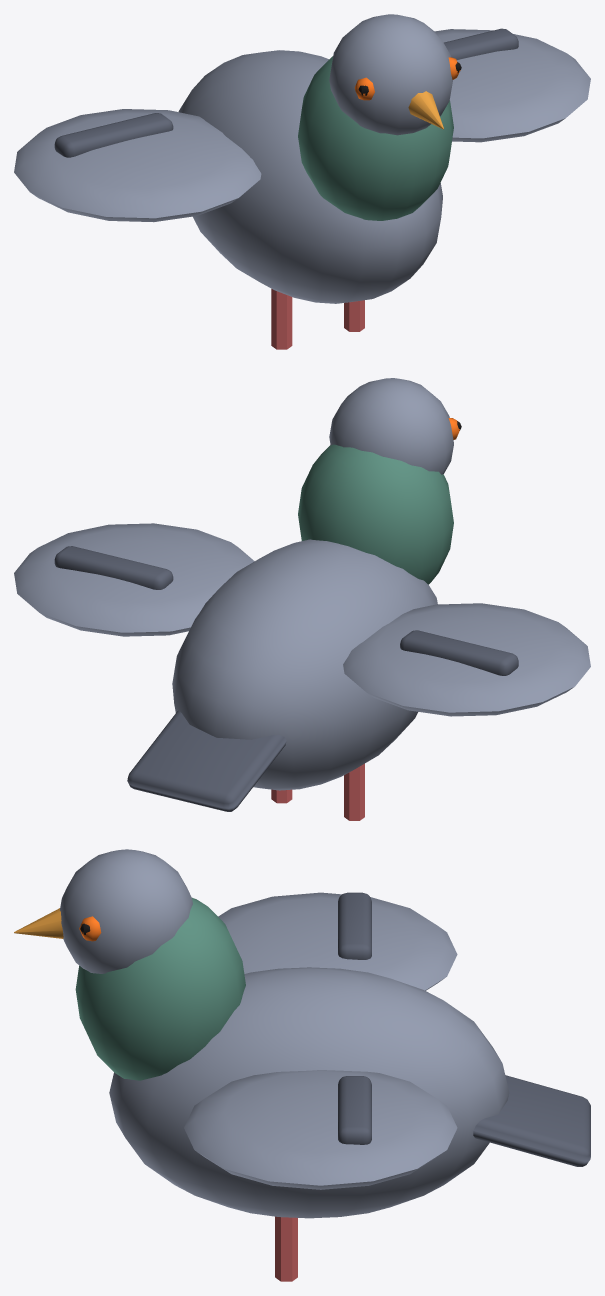
Rendered from pigeon.glb.
3 renders of one model, top to bottom at view 1: azimuth 30°, elevation 25°; view 2: azimuth 150°, elevation 25°; view 3: azimuth 270°, elevation 25°, orthographic. The views are drawn at different scales.
Parts seen in each view (by area): view 1: pigeon_body, pigeon_wing_mesh_r, pigeon_wing_mesh_l; view 2: pigeon_body, pigeon_wing_mesh_r, pigeon_wing_mesh_l; view 3: pigeon_body, pigeon_wing_mesh_l, pigeon_wing_mesh_r.
Part boxes in pixels (x1,y1,x2,y2): pigeon_body: [178, 14, 461, 349]; pigeon_wing_mesh_r: [14, 109, 261, 222]; pigeon_wing_mesh_l: [435, 28, 590, 142]; pigeon_body: [127, 378, 461, 820]; pigeon_wing_mesh_r: [343, 603, 590, 716]; pigeon_wing_mesh_l: [14, 523, 254, 636]; pigeon_body: [14, 849, 590, 1281]; pigeon_wing_mesh_l: [184, 1070, 457, 1189]; pigeon_wing_mesh_r: [218, 892, 457, 990].
Bounding box in the file's own units: 0.6 × 0.39 × 0.5062.
